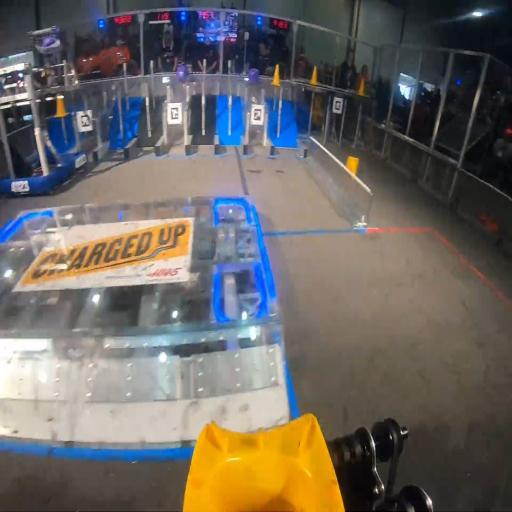robot: (0, 62, 88, 194)
